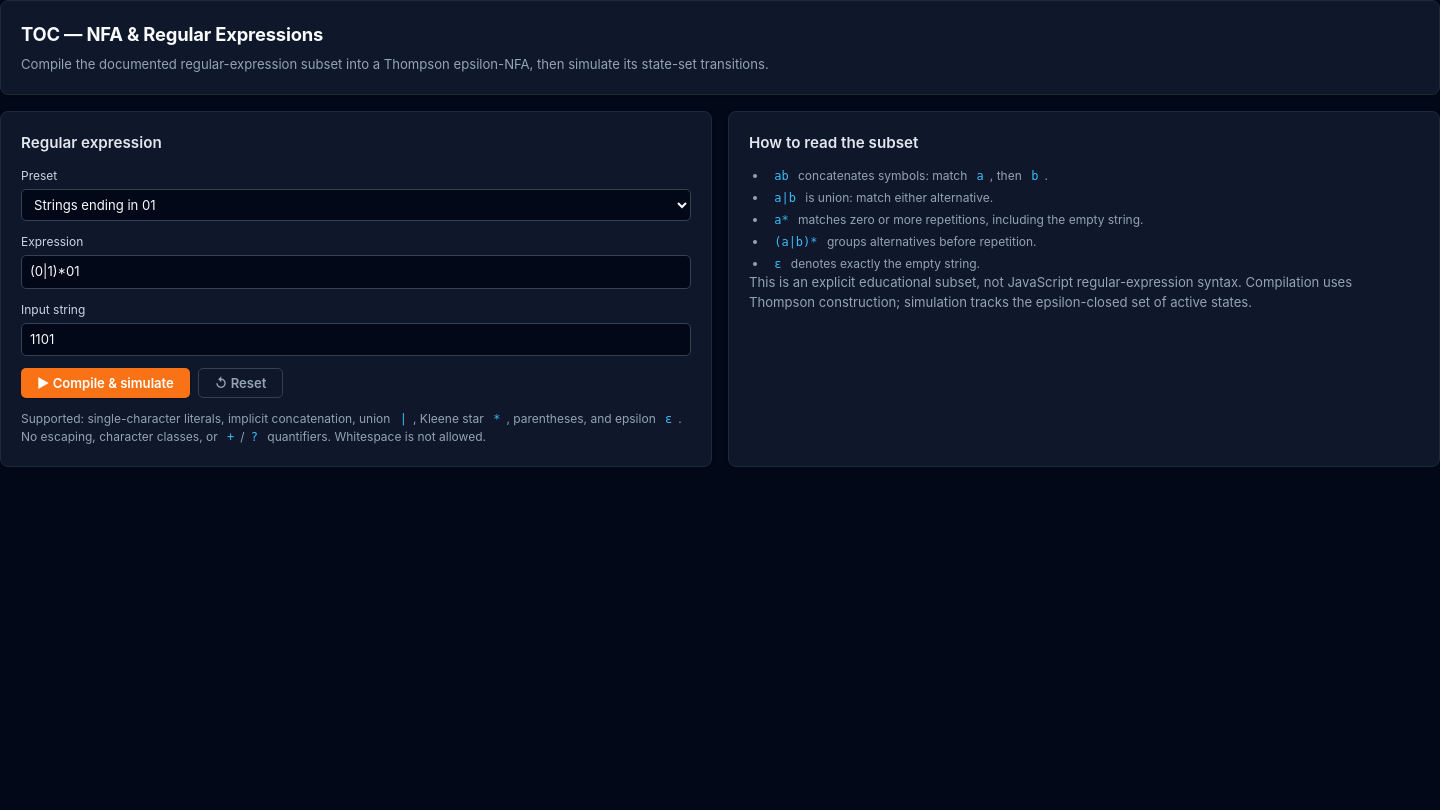
Scenario: TOCNFALab › displays rejected and invalid-alphabet outcomes from the simulator
Replace the text in the field named "NFA input string" with "1100" at (356,340), box top-left (21, 323), bottom-right (691, 356)
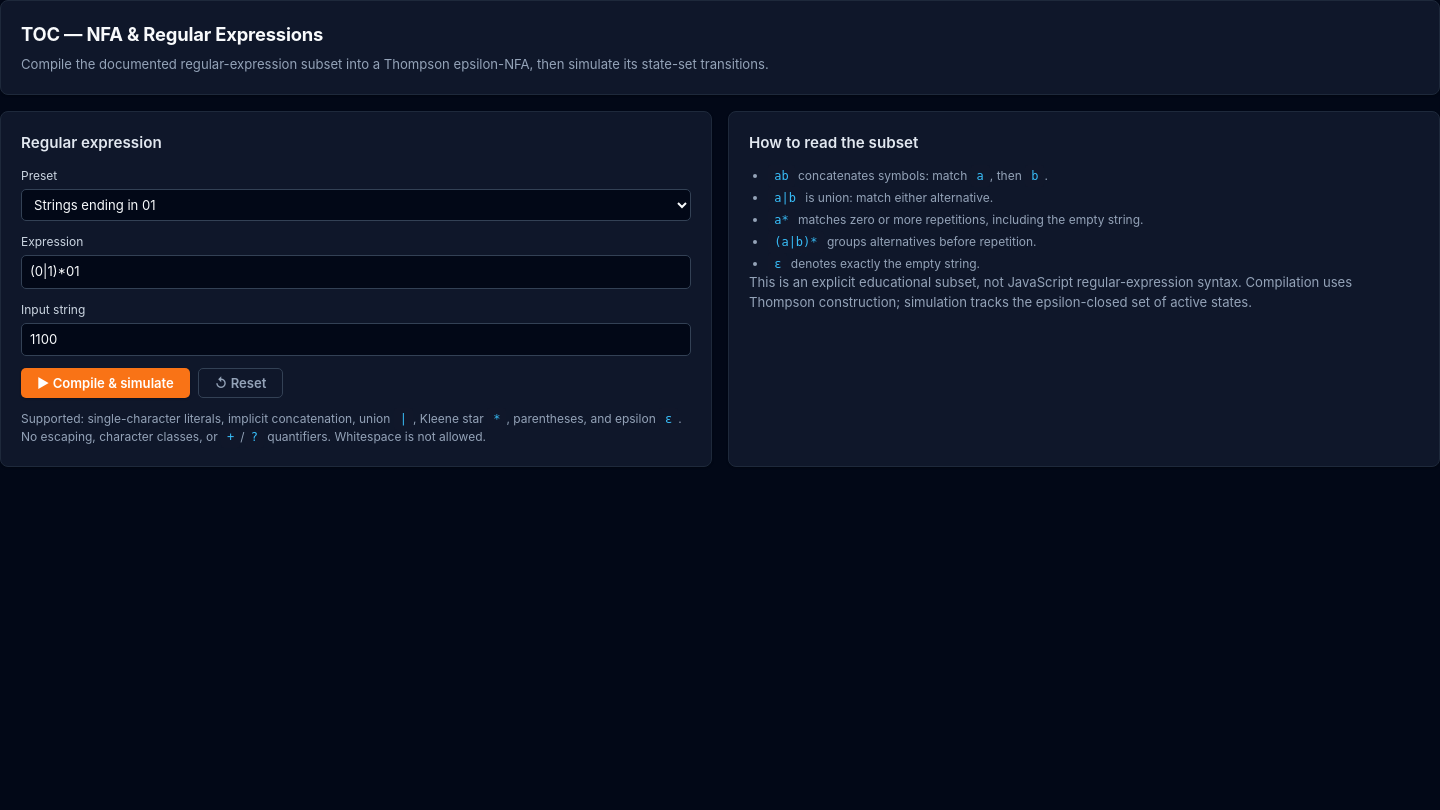
Click the button "▶ Compile & simulate" at (105,383), box top-left (21, 368), bottom-right (190, 398)
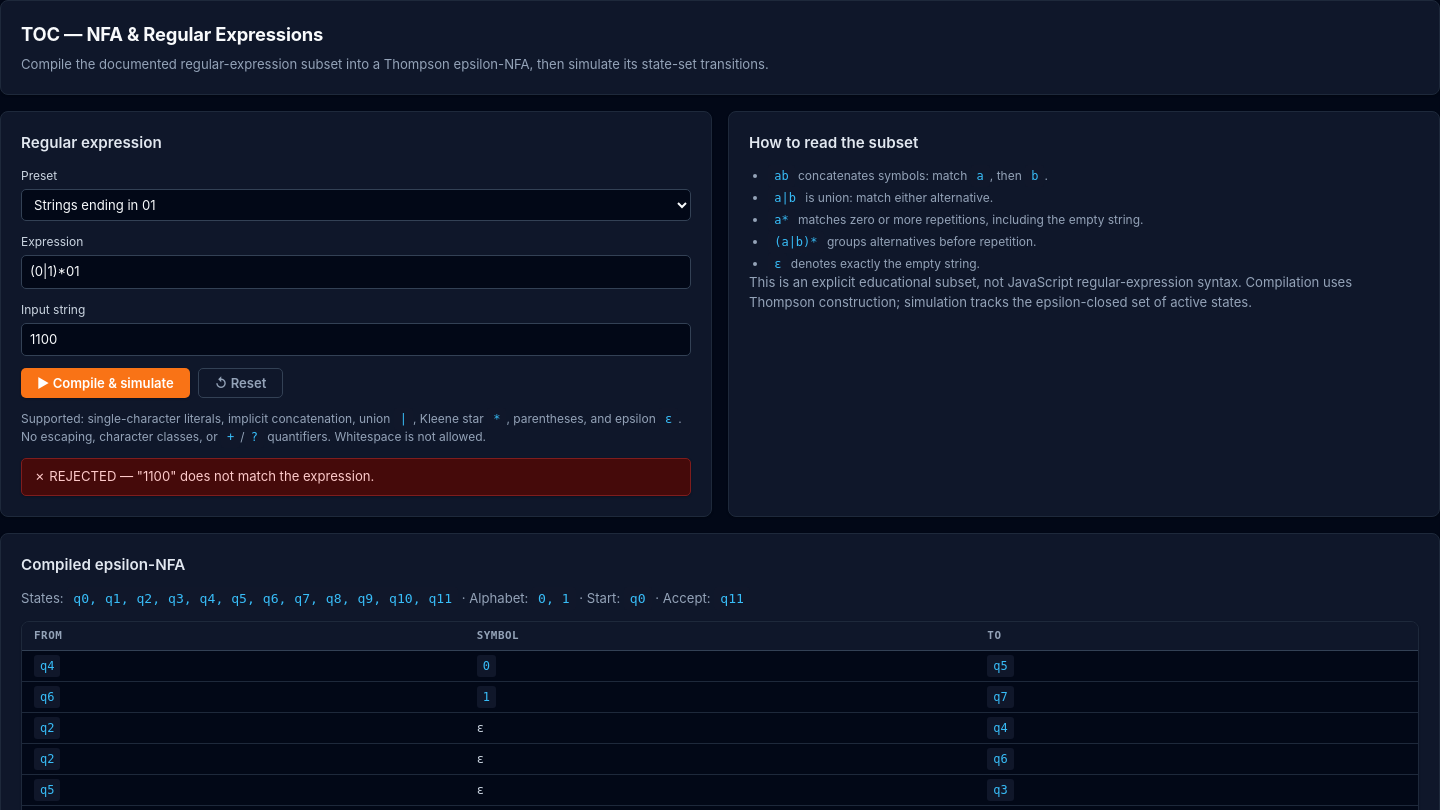
Expected: the message shows "REJECTED", top-left (34, 468), bottom-right (374, 484)
Replace the text in the field named "NFA input string" with "1102" at (356,340), box top-left (21, 323), bottom-right (691, 356)
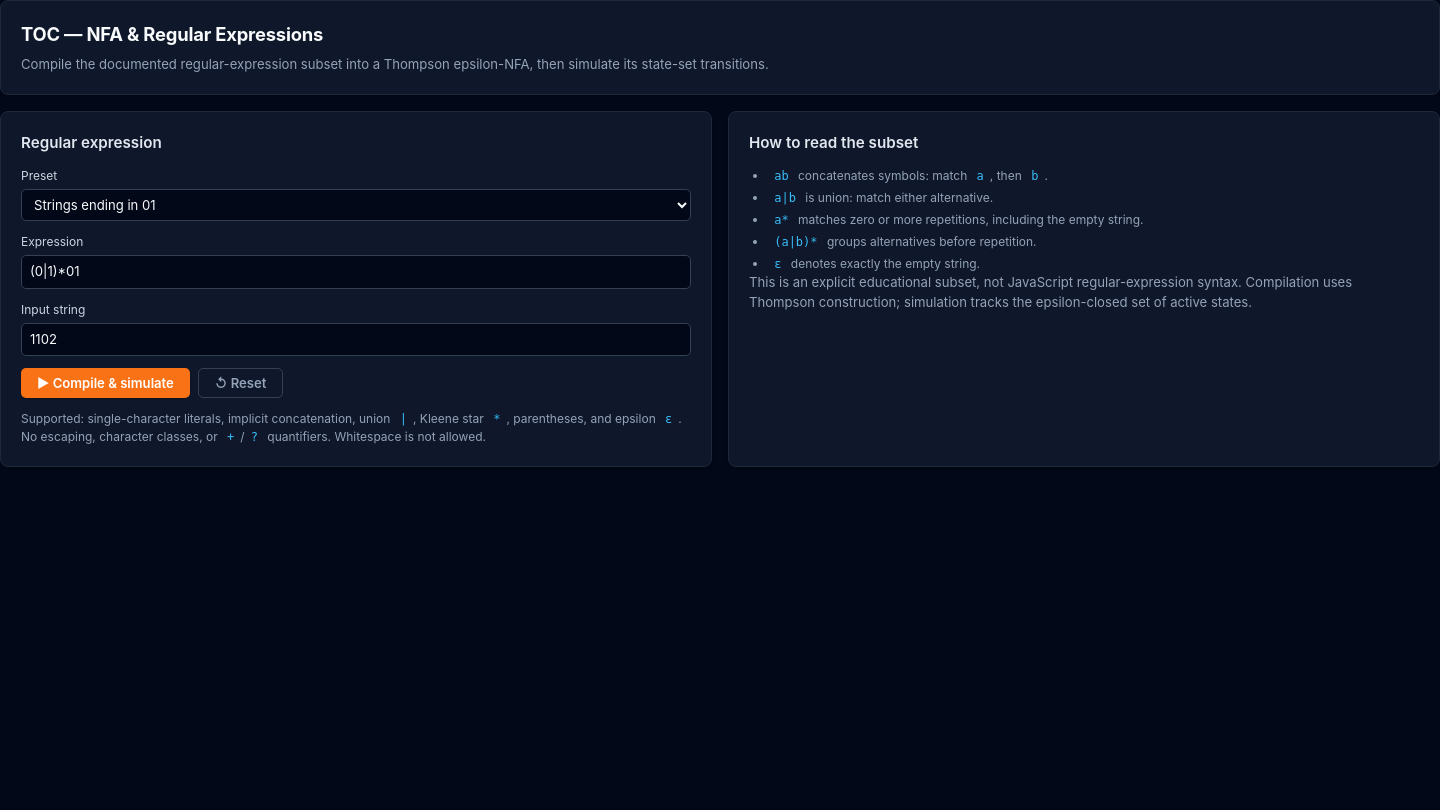
Click the button "▶ Compile & simulate" at (105,383), box top-left (21, 368), bottom-right (190, 398)
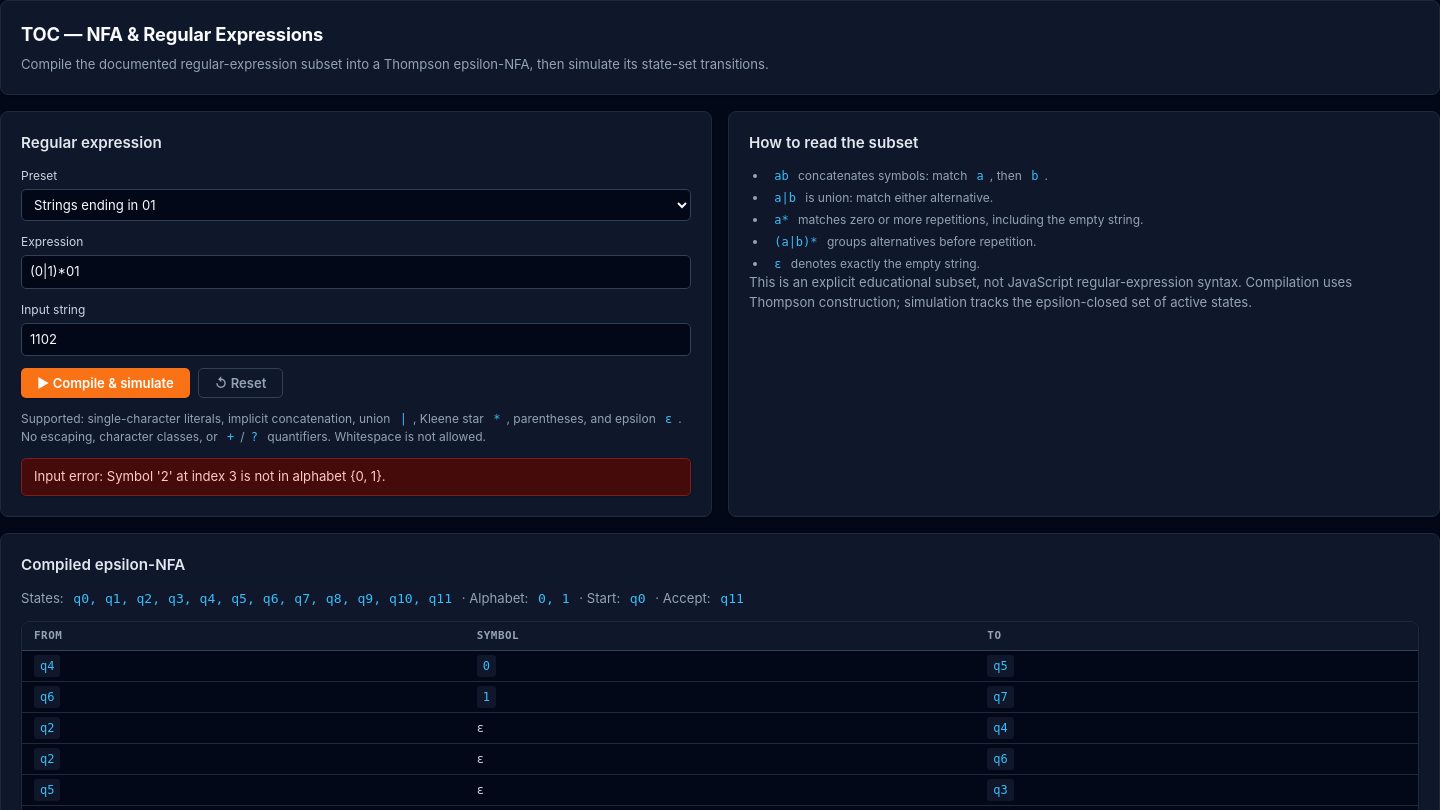
Expected: the message shows "Symbol '2' at index 3", top-left (34, 468), bottom-right (386, 484)
